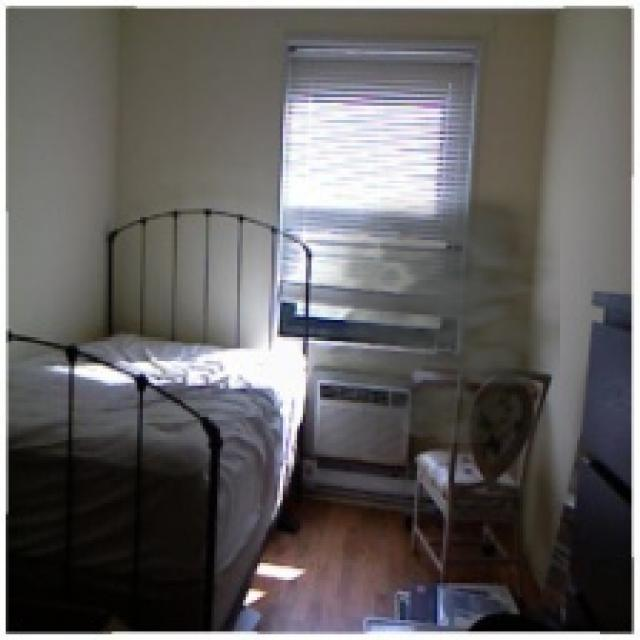Smoke: (294, 186, 560, 443)
